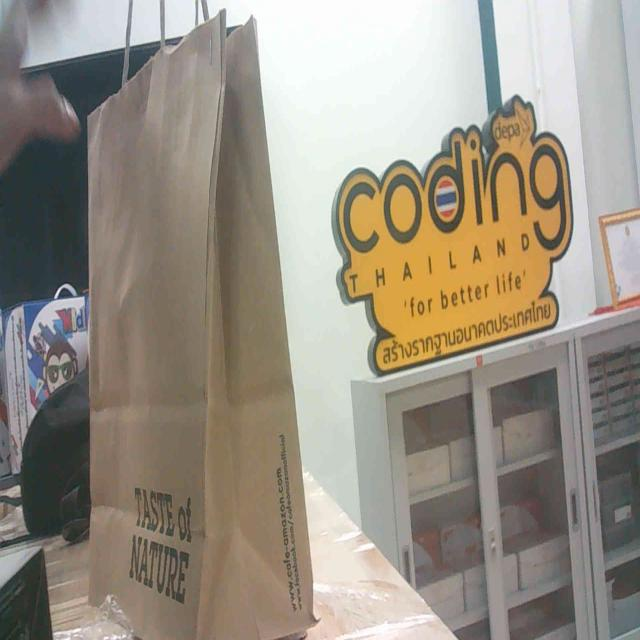bag: (74, 72, 292, 589)
